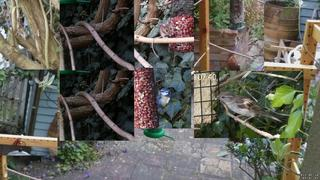blue tit: (154, 88, 171, 113)
mouse: (151, 20, 174, 59)
sparrow: (214, 91, 284, 128)
